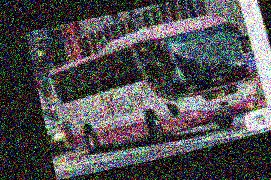bus: (39, 6, 263, 167)
